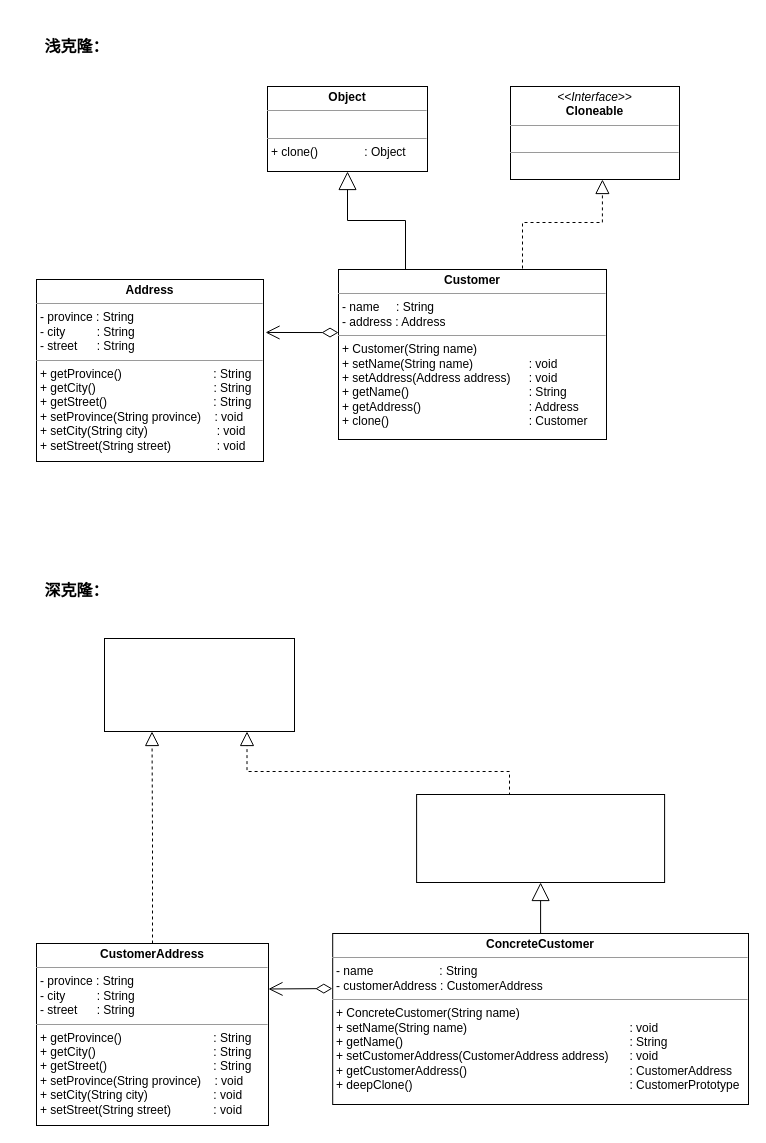
This 766x1143 diagram has some shape labels left out. Here are the shapes that lost their labels. From the top down, the box of each, then its label:
(104, 638, 294, 732): <<Interface>> Serializable
(416, 794, 665, 882): CustomerPrototype {abstract} + deepClone() : CustomerPrototype
